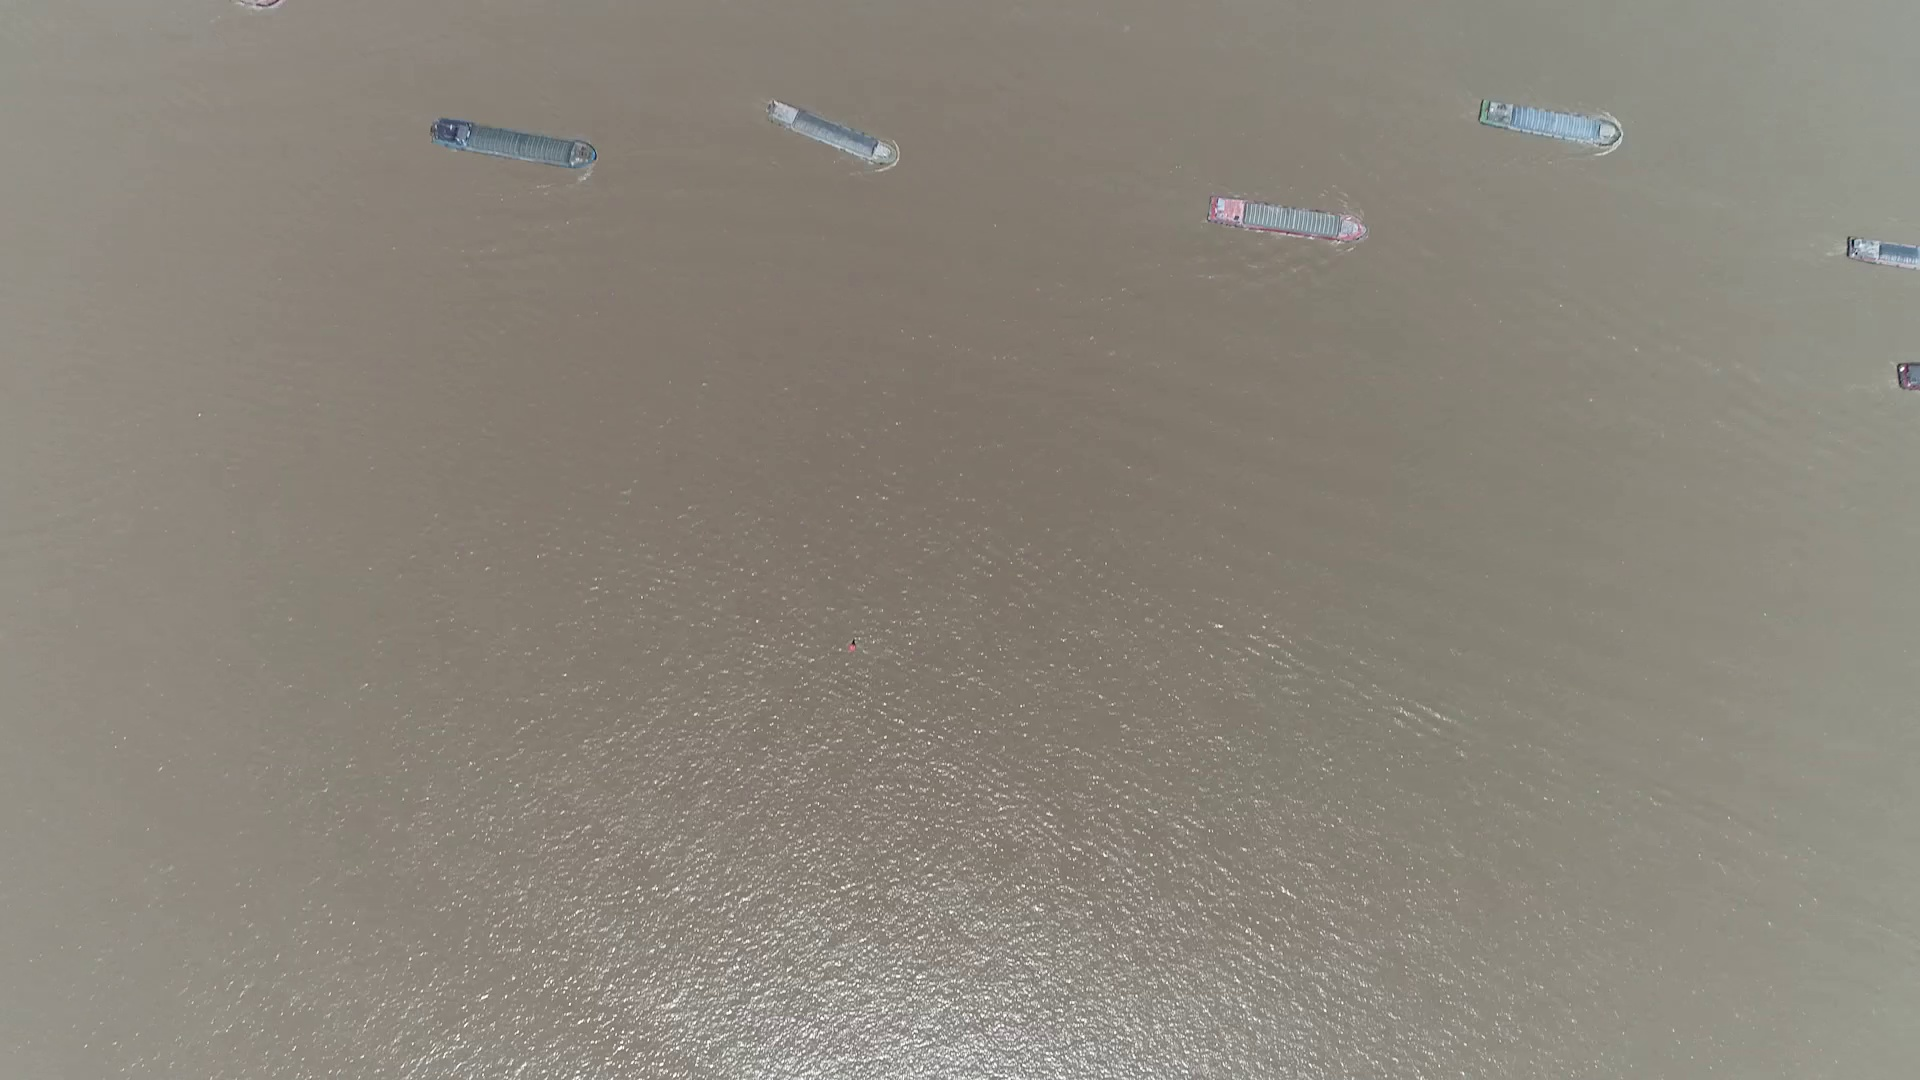ship: (429, 121, 597, 171), (764, 108, 895, 166), (1205, 202, 1360, 243), (1476, 105, 1619, 146), (1846, 237, 1917, 266)
